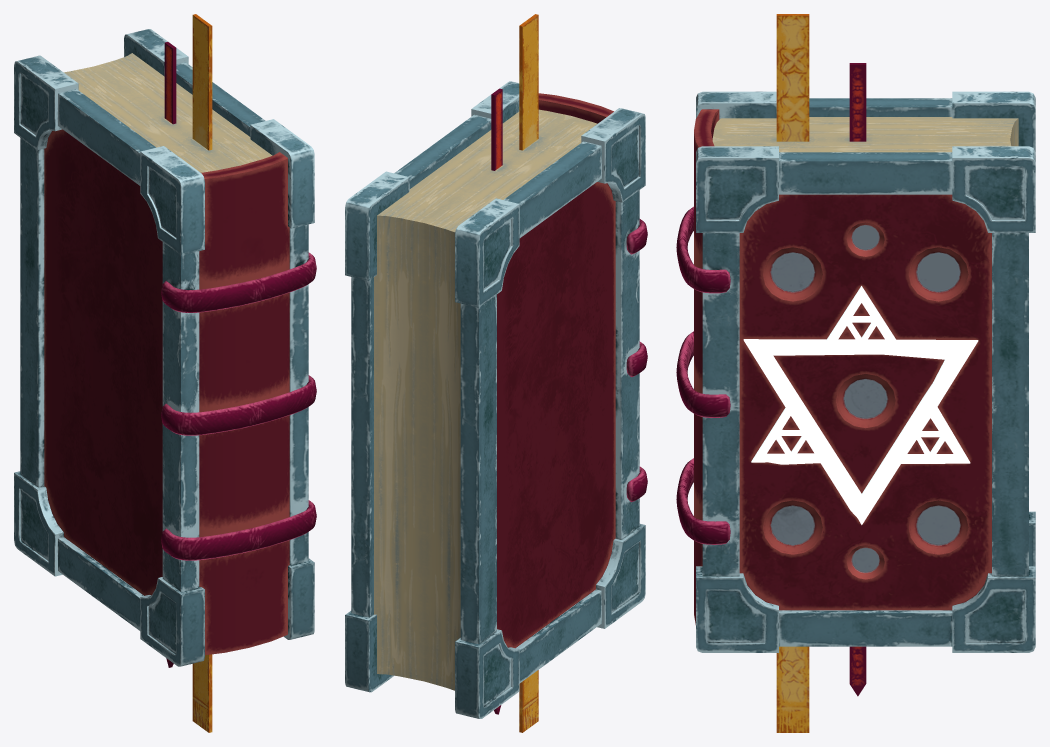
File: alchemists_book.glb
The picture shows the model from 3 angles, left to right: view 1: azimuth 30°, elevation 25°; view 2: azimuth 150°, elevation 25°; view 3: azimuth 270°, elevation 25°; orthographic projection.
Parts seen in each view (by area): view 1: Book_low, Inside_1_low; view 2: Book_low, Inside_1_low; view 3: Book_low, Inside_1_low.
Boxes of the visible parts, box(x1,y1,x2,y2) form: Book_low: box(14, 29, 316, 666); Inside_1_low: box(64, 14, 272, 732); Book_low: box(345, 81, 647, 718); Inside_1_low: box(374, 14, 597, 732); Book_low: box(676, 91, 1035, 652); Inside_1_low: box(712, 14, 1018, 732).
Size of the model in its own units: 4.06 by 18.71 by 8.49.
Materials: 2 (2 with a texture image).
